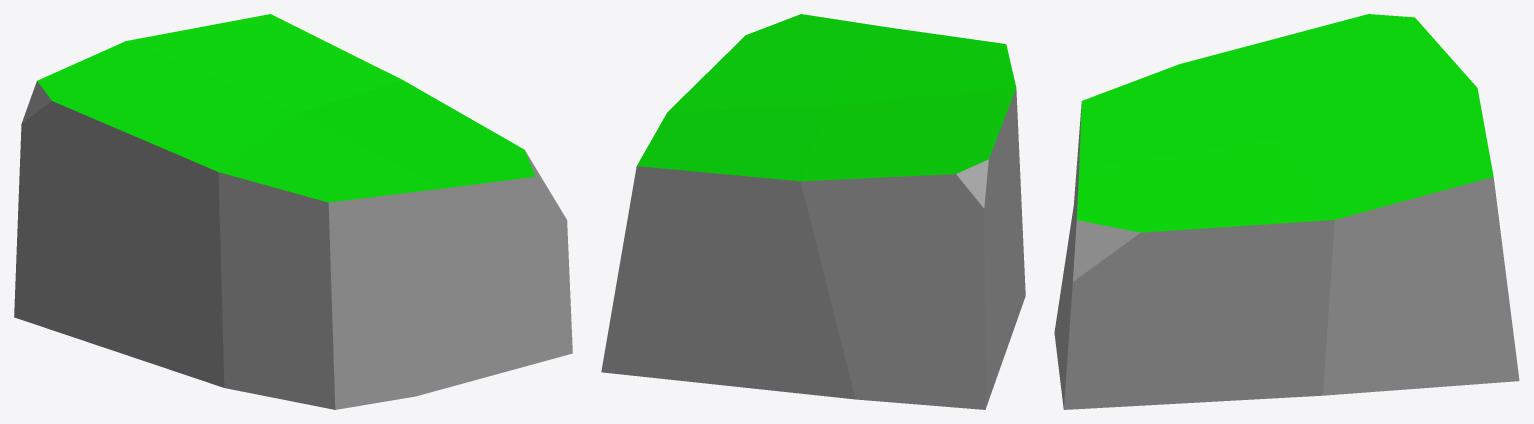
File: rock_gen_small_A.fbx
3 views of the same model, side by side, from view 1: azimuth 30°, elevation 25°; view 2: azimuth 150°, elevation 25°; view 3: azimuth 270°, elevation 25° (orthographic). The views are drawn at different scales.
Visible parts, largest first — view 1: rock_gen_small_A; view 2: rock_gen_small_A; view 3: rock_gen_small_A.
Boxes of the visible parts, <box> form: rock_gen_small_A: <box>14,14,572,409</box>; rock_gen_small_A: <box>601,14,1025,409</box>; rock_gen_small_A: <box>1054,14,1519,409</box>.
Bounding box in the file's own units: 28.08 × 16.02 × 30.3.
